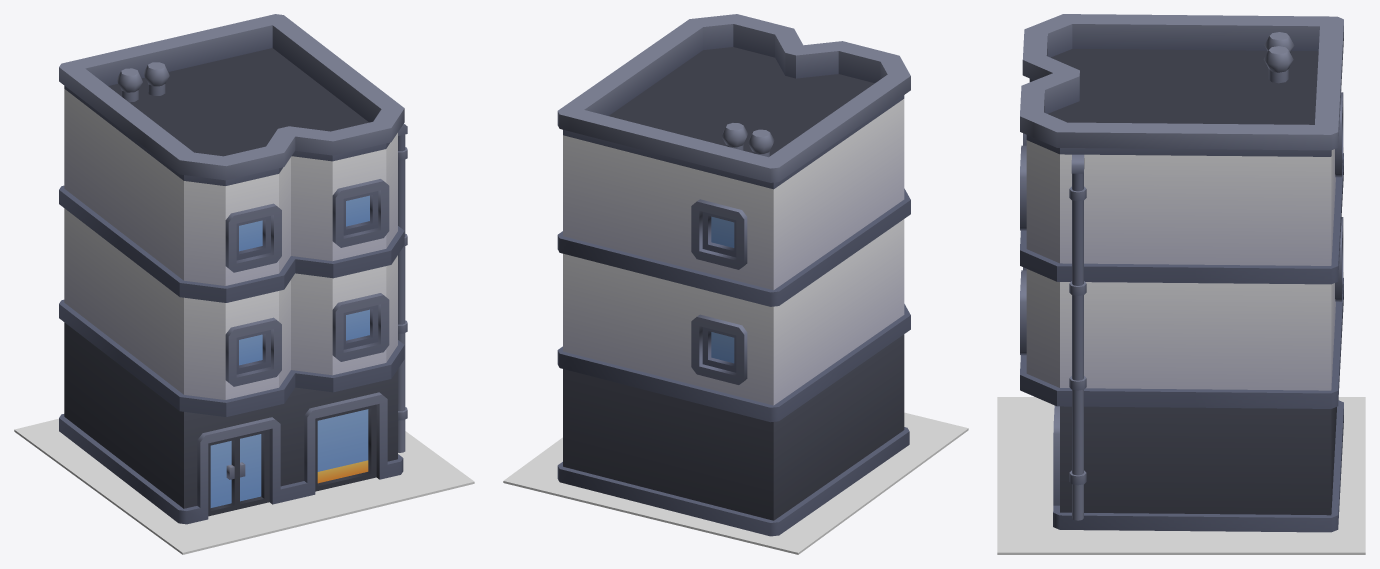
The picture shows the model from 3 angles, left to right: view 1: azimuth 30°, elevation 25°; view 2: azimuth 150°, elevation 25°; view 3: azimuth 270°, elevation 25°; orthographic projection. The views are drawn at different scales.
Parts seen in each view (by area): view 1: building-a, Cube; view 2: building-a, Cube; view 3: building-a, Cube.
Part boxes in pixels (<box>): building-a: <box>59,14,407,524</box>; Cube: <box>14,418,474,554</box>; building-a: <box>557,14,910,536</box>; Cube: <box>503,412,968,554</box>; building-a: <box>1020,14,1343,532</box>; Cube: <box>997,397,1365,554</box>.
Size of the model in its own units: 30 by 36.3 by 30.
4 materials, 1 textured.
